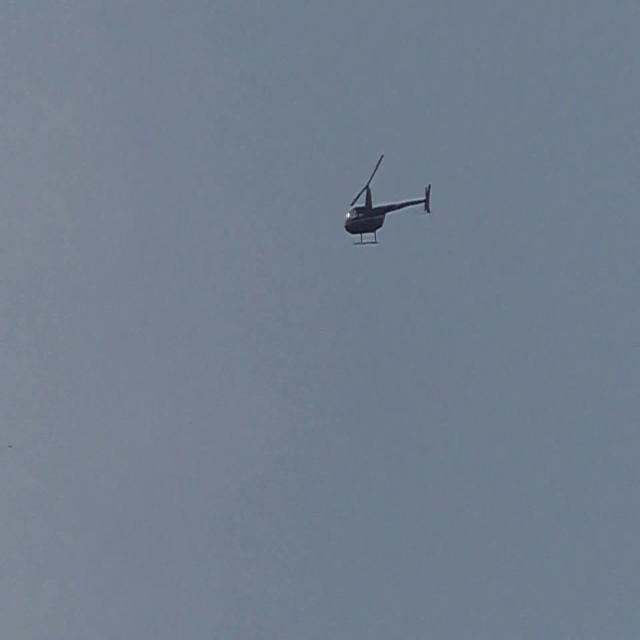CIV_HELO: (344, 182, 433, 246)
